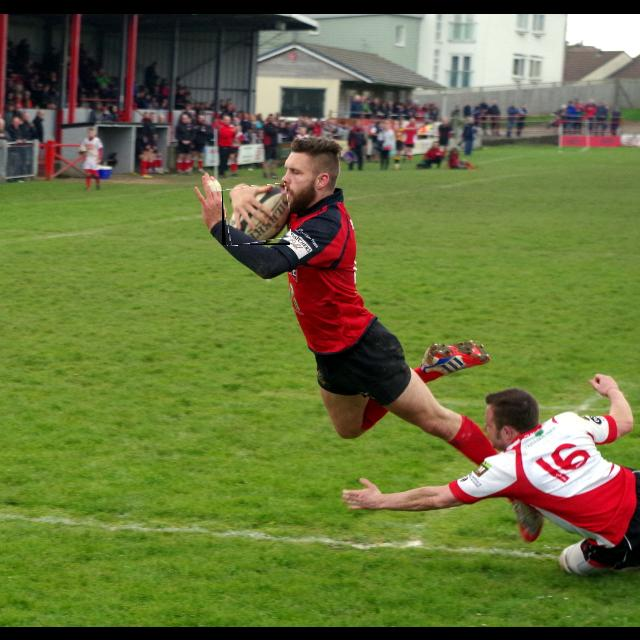Football: (222, 185, 290, 245)
